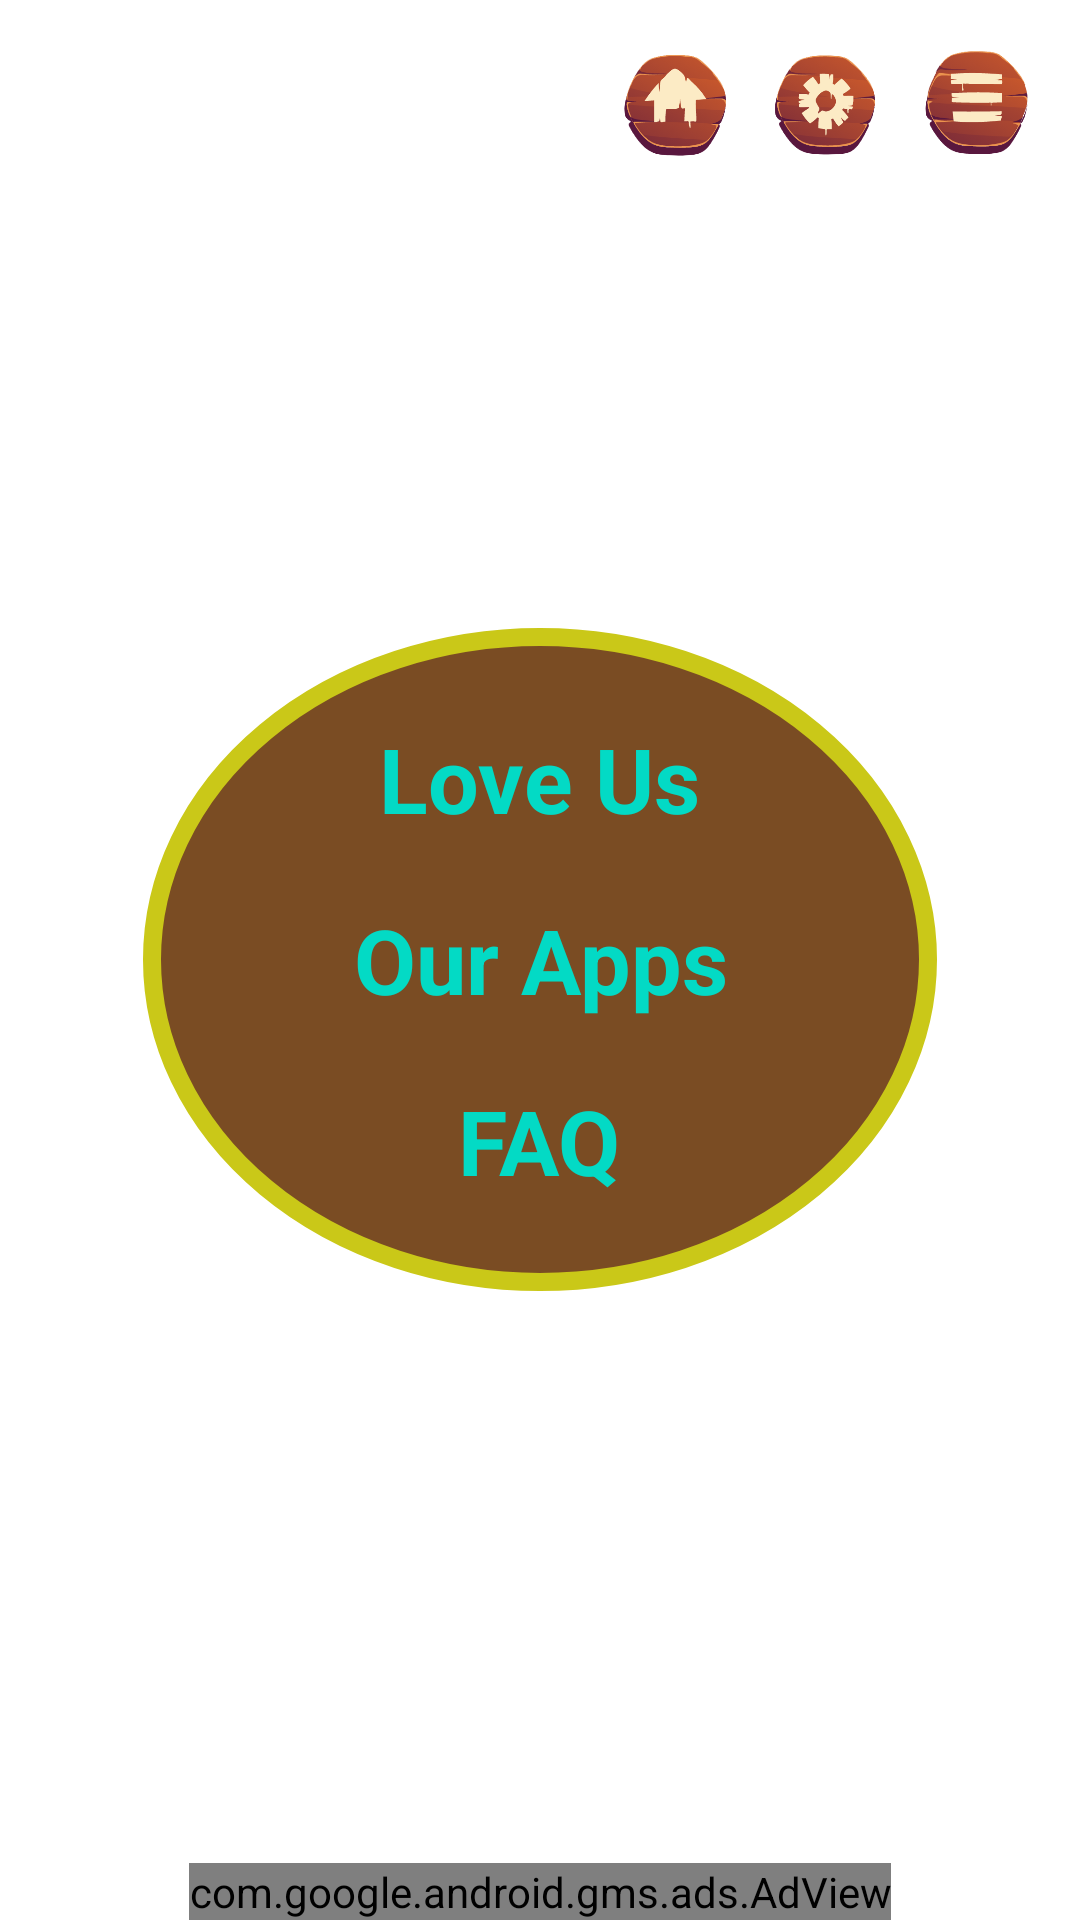

Screen size 1080×1920. Icon name, then its center in pixels as (x,y):
home: (675,105)
menu: (976,102)
setting: (825,105)
